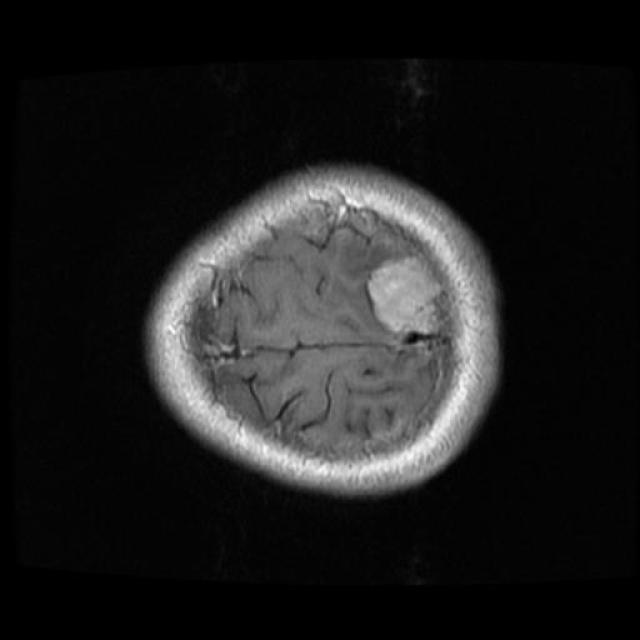Meningioma: (367, 257, 441, 333)
